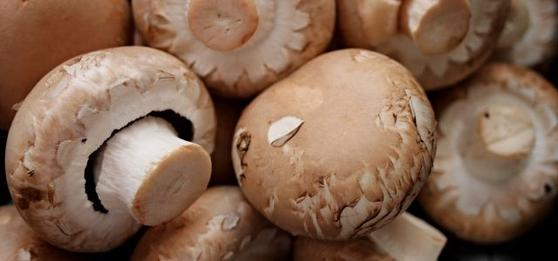champignon: (9, 41, 218, 253), (238, 50, 432, 236)
